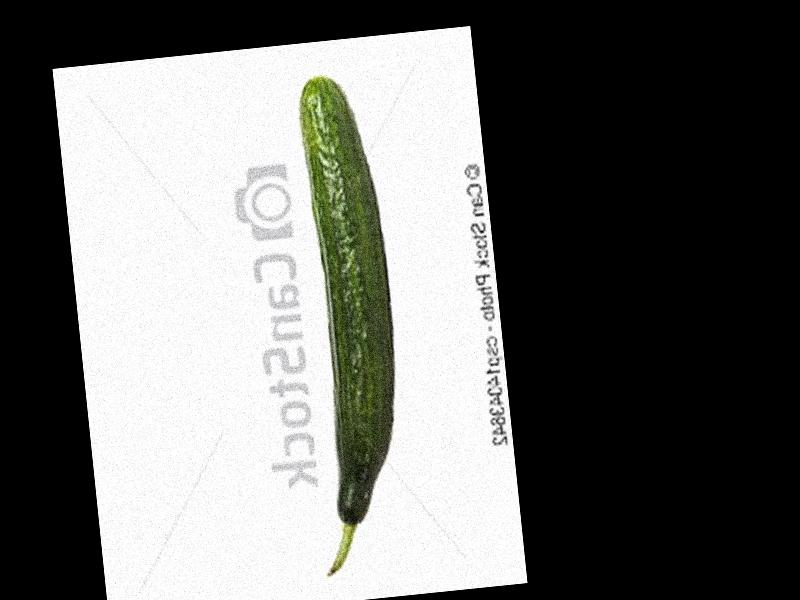Cucumber: (279, 74, 418, 578)
